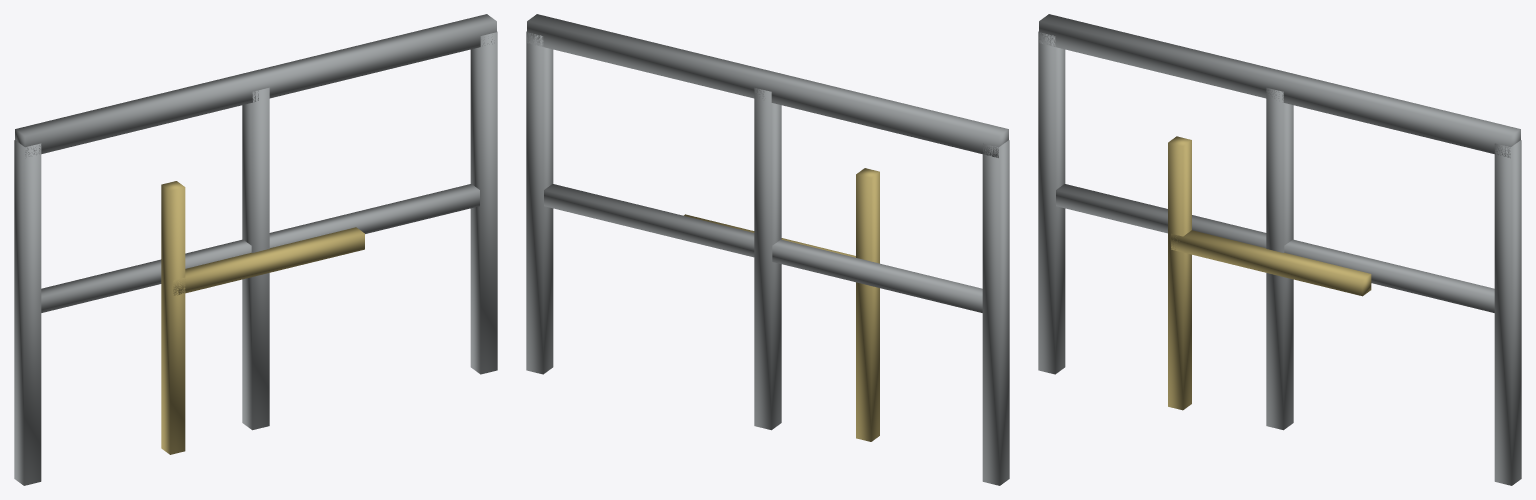
File: residential_gate_l120_h85.glb
3 views of the same model, side by side, from view 1: azimuth 30°, elevation 25°; view 2: azimuth 150°, elevation 25°; view 3: azimuth 330°, elevation 25° (orthographic).
Visible parts, largest first — view 1: world; view 2: world; view 3: world.
Part boxes in pixels (bbox=[...]): world: bbox=[14, 14, 497, 485]; world: bbox=[526, 14, 1009, 485]; world: bbox=[1038, 14, 1521, 485].
Size of the model in its own units: 1.25 by 0.8775 by 0.0825.
